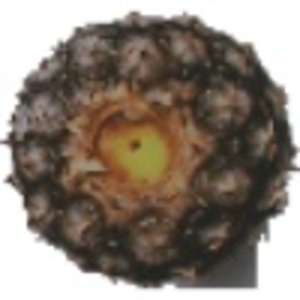abacaxi: (6, 8, 291, 273)
